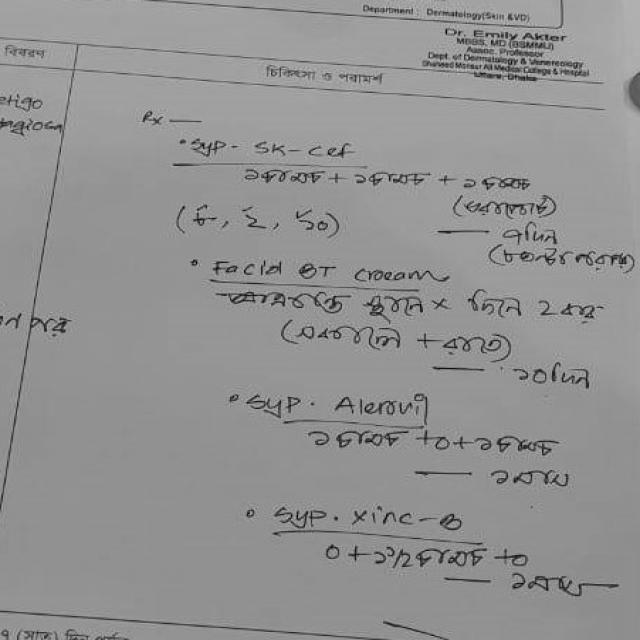medicine: (347, 498, 474, 540), (209, 256, 344, 288), (328, 392, 431, 426), (242, 136, 362, 162)
